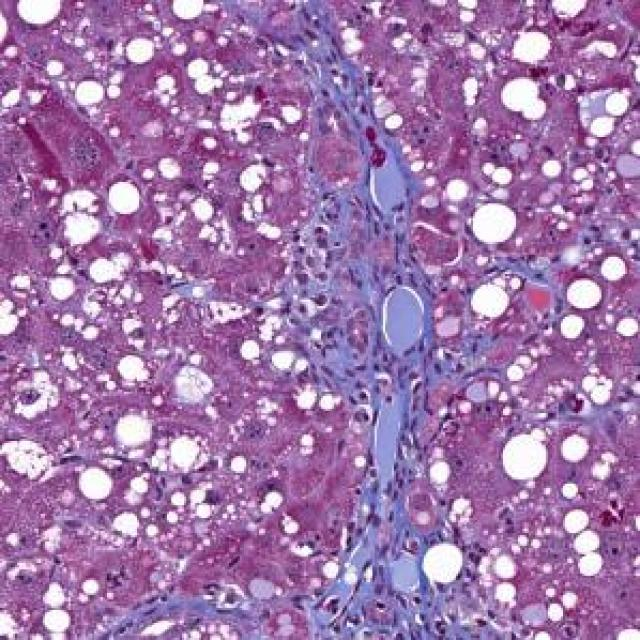fibrosis: (298, 174, 445, 416), (310, 481, 430, 640)
